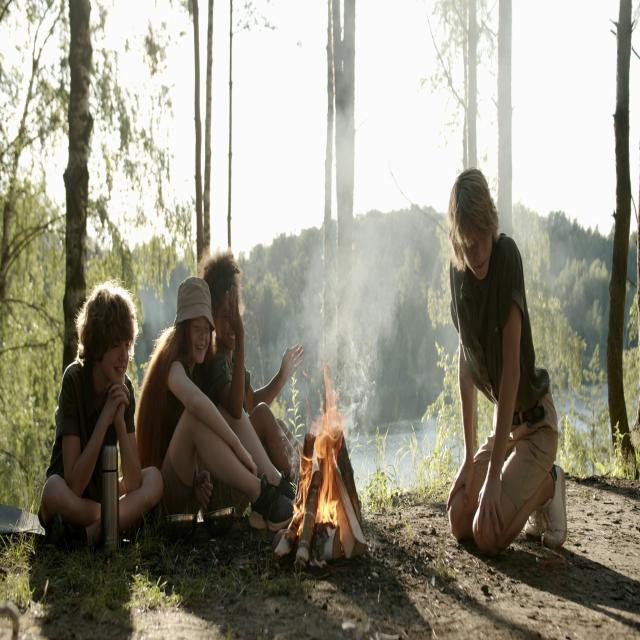Fire: (288, 388, 352, 530)
Smoke: (280, 177, 420, 412)
